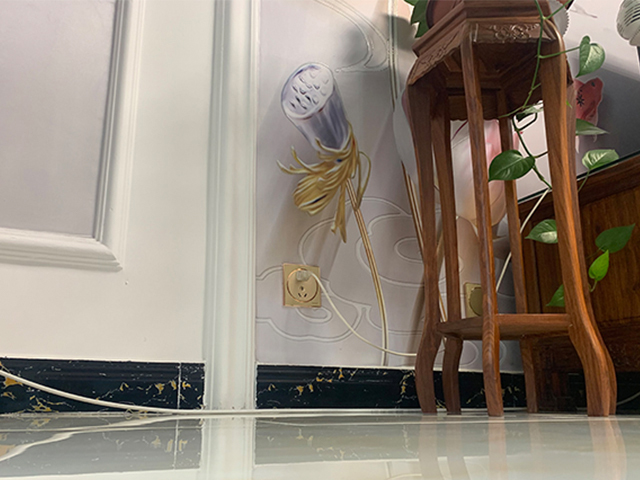wire: (1, 370, 639, 417)
